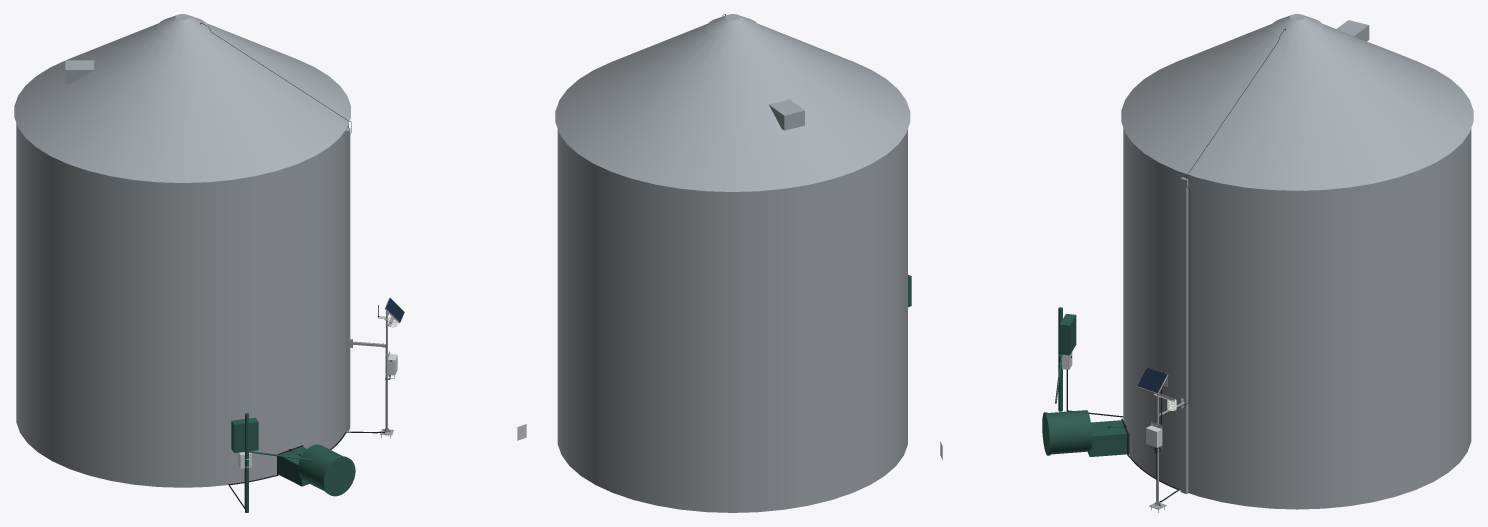
3 views of the same model, side by side, from view 1: azimuth 30°, elevation 25°; view 2: azimuth 150°, elevation 25°; view 3: azimuth 270°, elevation 25° (orthographic). The views are drawn at different scales.
Visible parts, largest first — view 1: Corrugated steel bin, 5.49 m (existing), Aeration fan and transition (existing), Bin wall stiffener (existing), Fan starter on its post (existing); view 2: Corrugated steel bin, 5.49 m (existing); view 3: Corrugated steel bin, 5.49 m (existing), Aeration fan and transition (existing), Bin wall stiffener (existing), Fan starter on its post (existing).
Boxes of the visible parts, x1,y1,x2,y2 form: Corrugated steel bin, 5.49 m (existing): [14, 14, 350, 487]; Aeration fan and transition (existing): [278, 444, 355, 496]; Bin wall stiffener (existing): [346, 128, 350, 431]; Fan starter on its post (existing): [231, 413, 312, 512]; Corrugated steel bin, 5.49 m (existing): [555, 14, 910, 512]; Corrugated steel bin, 5.49 m (existing): [1121, 14, 1473, 509]; Aeration fan and transition (existing): [1042, 410, 1129, 456]; Bin wall stiffener (existing): [1180, 177, 1188, 493]; Fan starter on its post (existing): [1055, 307, 1076, 411].
Size of the model in its own units: 6.15 by 7.4 by 8.47.
